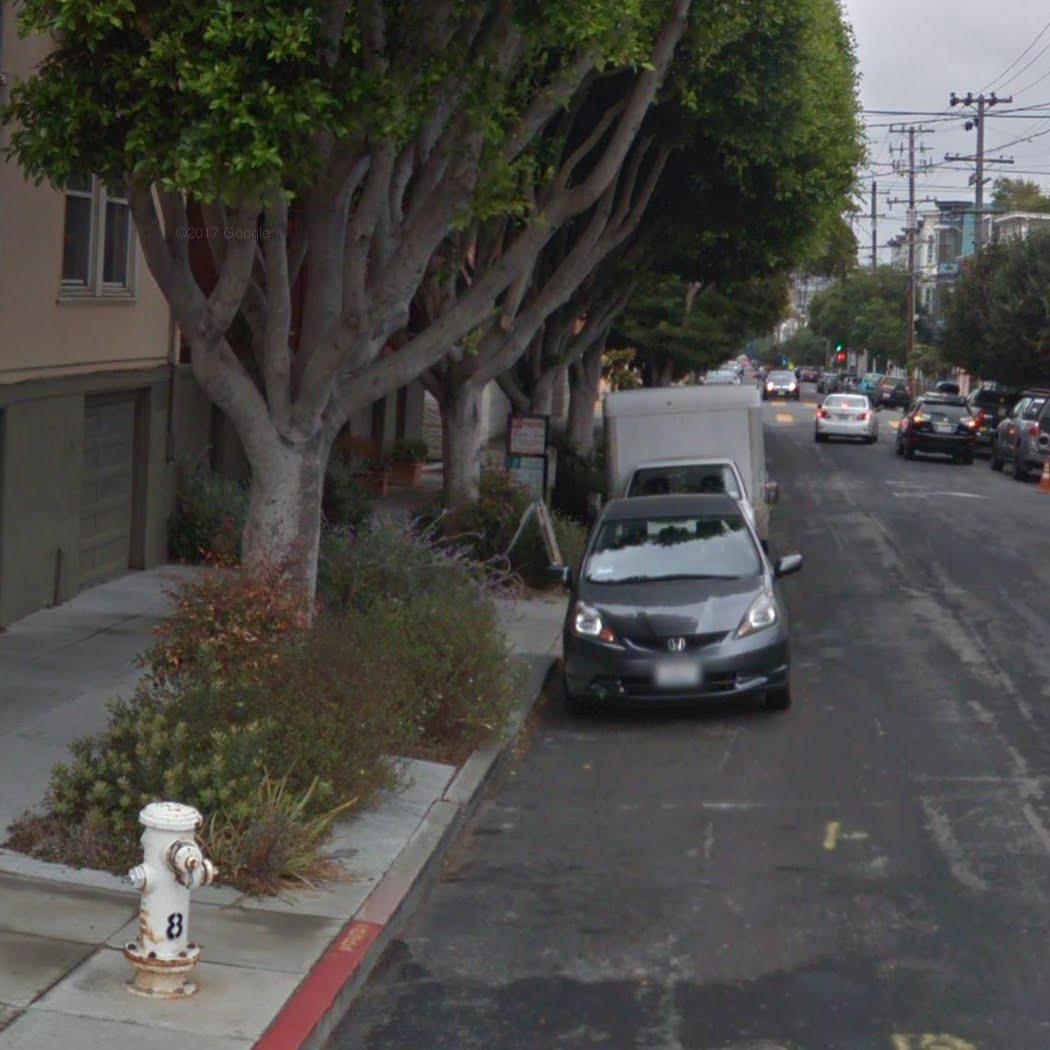2 Hour Parking: (504, 456, 546, 504)
No Parking: (508, 415, 548, 456)
